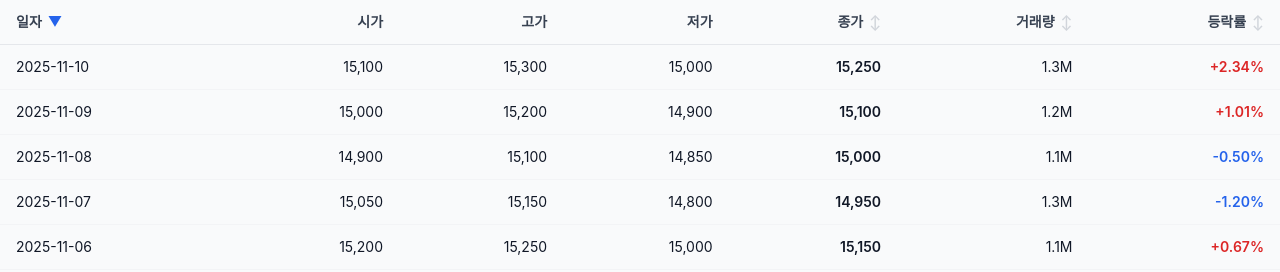
it: PriceTable › 정렬 기능 › 종가 기준으로 정렬이 가능하다
// 종가 클릭 (오름차순)
Click the column heading "종가". click: x=850, y=22
box: [729,0,897,44]
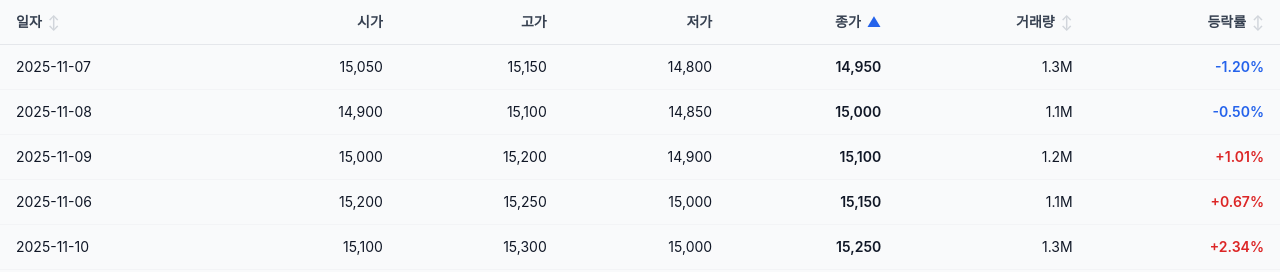
Check: the text "14,950" is shown, box [728,44,897,90]
